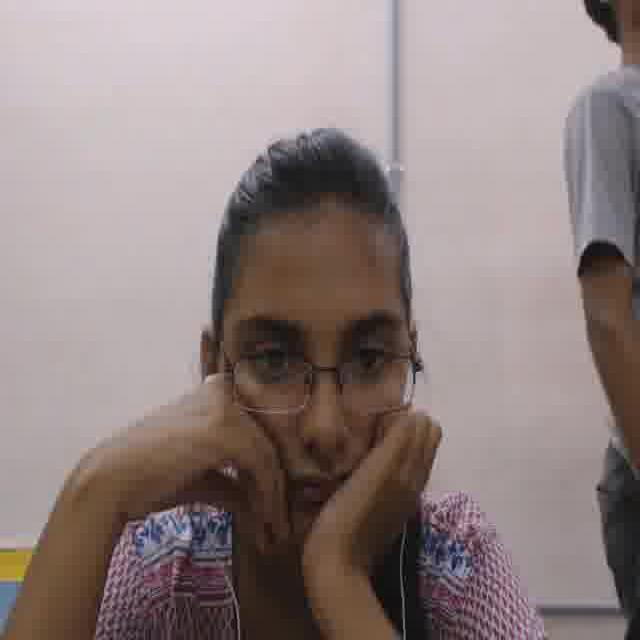Frustration: (216, 208, 406, 555)
